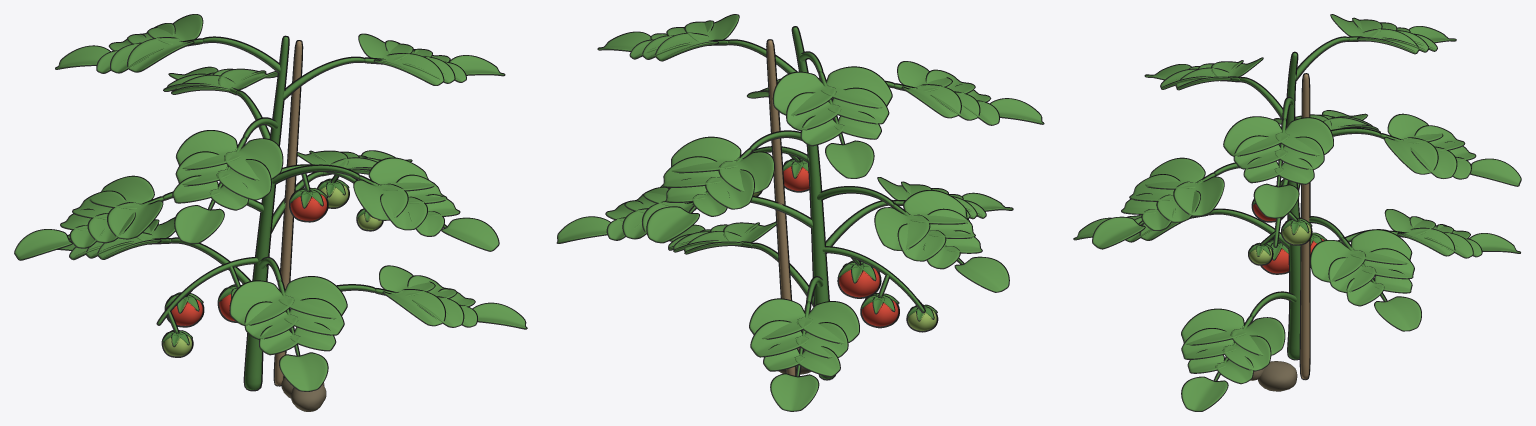
File: tomatogrownground.fbx
3 views of the same model, side by side, from view 1: azimuth 30°, elevation 25°; view 2: azimuth 150°, elevation 25°; view 3: azimuth 270°, elevation 25° (orthographic). The views are drawn at different scales.
Parts seen in each view (by area): view 1: Tomato_Leaflets, Tomato_Stems, Tomato_Stake, Tomato_Calyx, Tomato_Fruit_Ripe, Tomato_Trusses, Tomato_Fruit_Unripe, Tomato_Clod_10; view 2: Tomato_Leaflets, Tomato_Stems, Tomato_Stake, Tomato_Fruit_Ripe, Tomato_Calyx, Tomato_Trusses, Tomato_Fruit_Unripe; view 3: Tomato_Leaflets, Tomato_Stems, Tomato_Stake, Tomato_Clod_00, Tomato_Fruit_Unripe, Tomato_Calyx, Tomato_Fruit_Ripe.
Part boxes in pixels (left/top/right/bottom): Tomato_Leaflets: left=14, top=14, right=527, bottom=391; Tomato_Stems: left=68, top=35, right=447, bottom=391; Tomato_Stake: left=273, top=40, right=303, bottom=386; Tomato_Calyx: left=161, top=178, right=379, bottom=347; Tomato_Fruit_Ripe: left=164, top=187, right=328, bottom=327; Tomato_Trusses: left=156, top=164, right=357, bottom=332; Tomato_Fruit_Unripe: left=161, top=180, right=383, bottom=357; Tomato_Clod_10: left=291, top=384, right=326, bottom=411; Tomato_Leaflets: left=556, top=14, right=1044, bottom=411; Tomato_Stems: left=684, top=26, right=964, bottom=380; Tomato_Stake: left=766, top=39, right=796, bottom=375; Tomato_Fruit_Ripe: left=783, top=159, right=899, bottom=328; Tomato_Calyx: left=783, top=158, right=937, bottom=321; Tomato_Trusses: left=752, top=146, right=925, bottom=313; Tomato_Fruit_Unripe: left=753, top=191, right=938, bottom=332; Tomato_Leaflets: left=1073, top=14, right=1521, bottom=411; Tomato_Stems: left=1138, top=36, right=1408, bottom=381; Tomato_Stake: left=1299, top=73, right=1310, bottom=380; Tomato_Clod_00: left=1258, top=361, right=1297, bottom=391; Tomato_Fruit_Unripe: left=1248, top=218, right=1312, bottom=265; Tomato_Calyx: left=1248, top=200, right=1326, bottom=260; Tomato_Fruit_Ripe: left=1251, top=199, right=1323, bottom=274.
Size of what is drawn, in the model's own units: 469 by 359 by 440.
